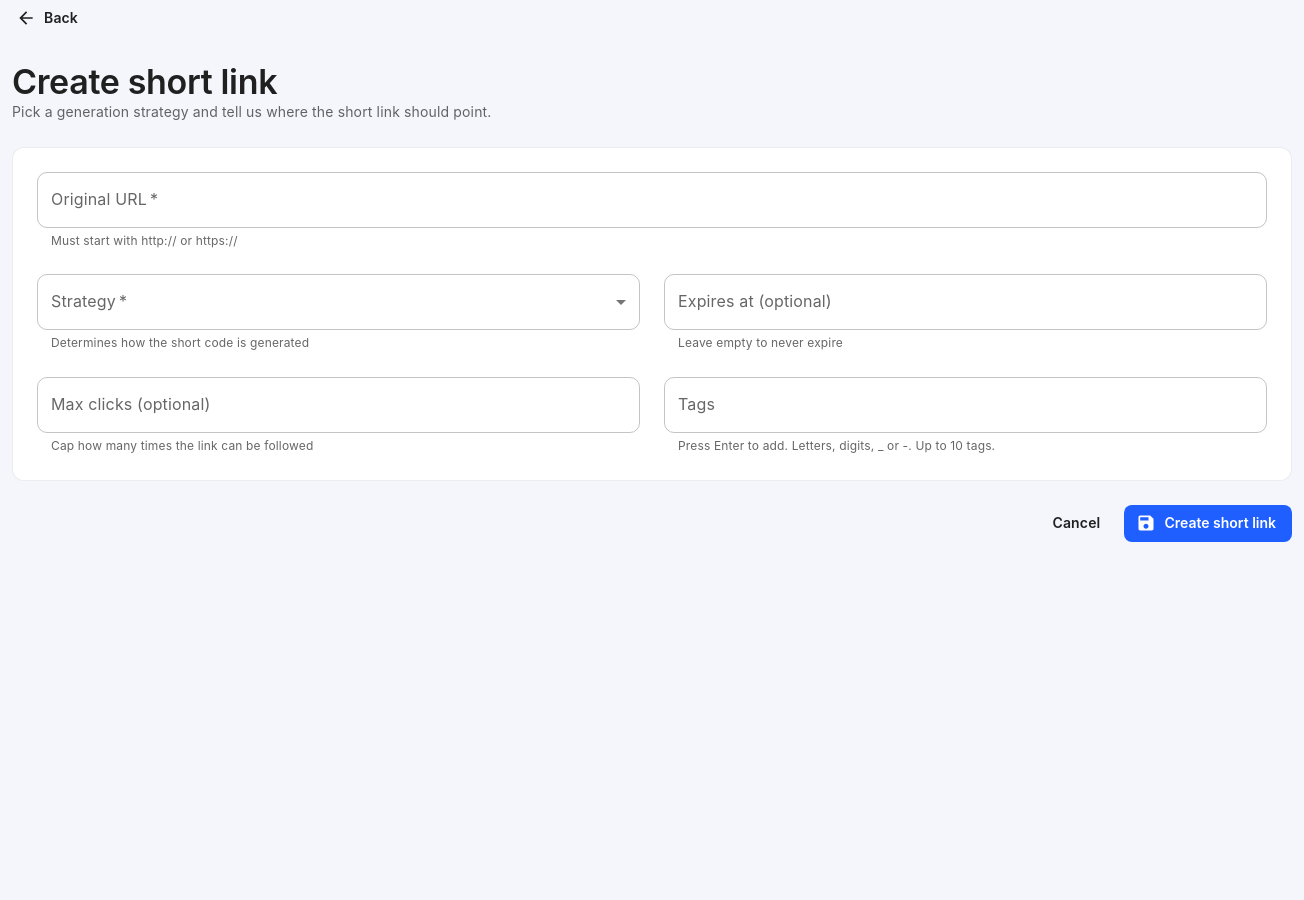
Scenario: <ShortLinkFormPage> — create flow › shows the alias field when CUSTOM_ALIAS strategy is selected
Expected: the field labelled "Original URL *" is shown, [37, 172, 1267, 228]
Click the 1st dropdown: (338, 302) [37, 274, 640, 330]
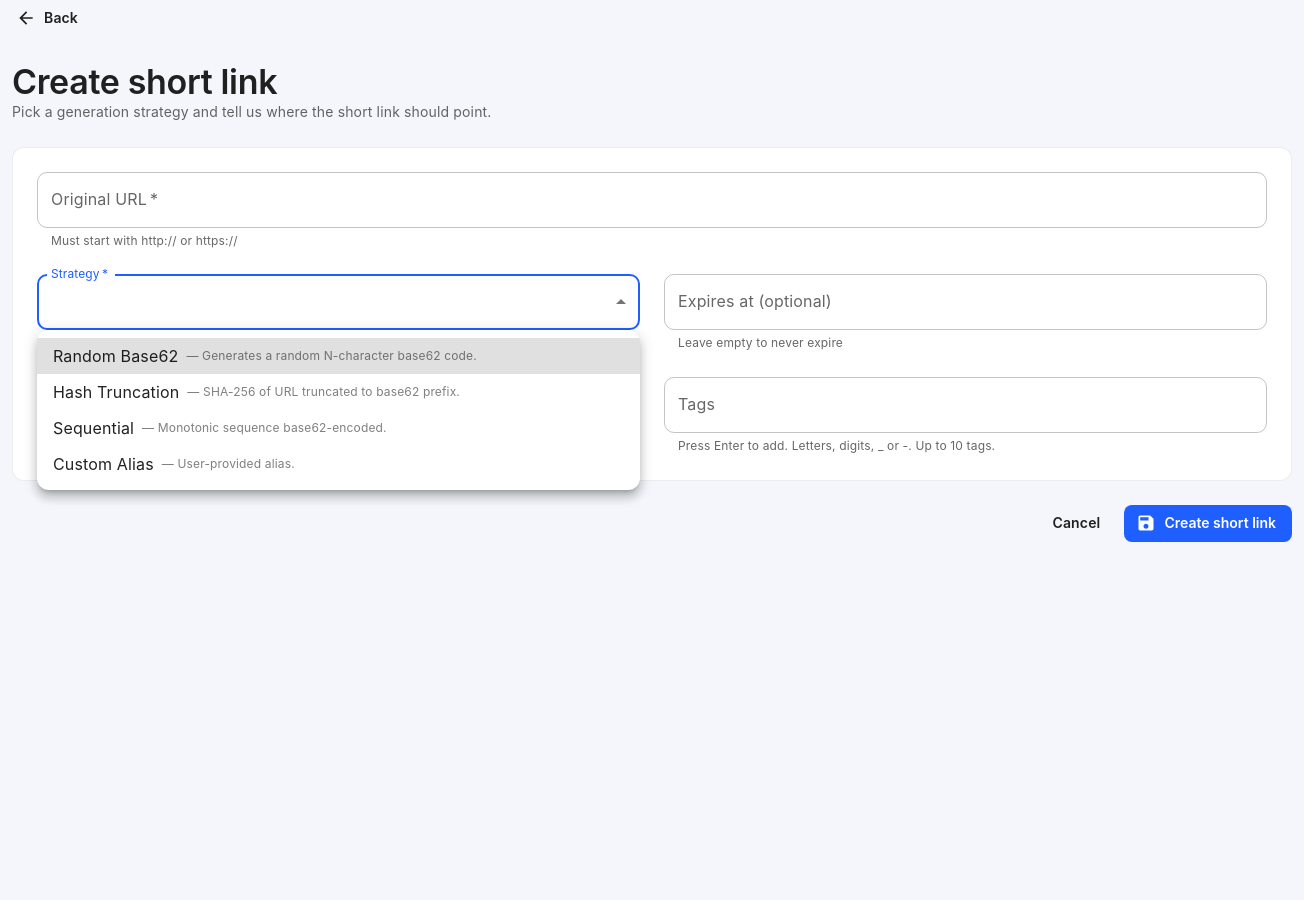
Click the option "Custom Alias — User-provided alias.": (174, 464) [53, 454, 295, 474]
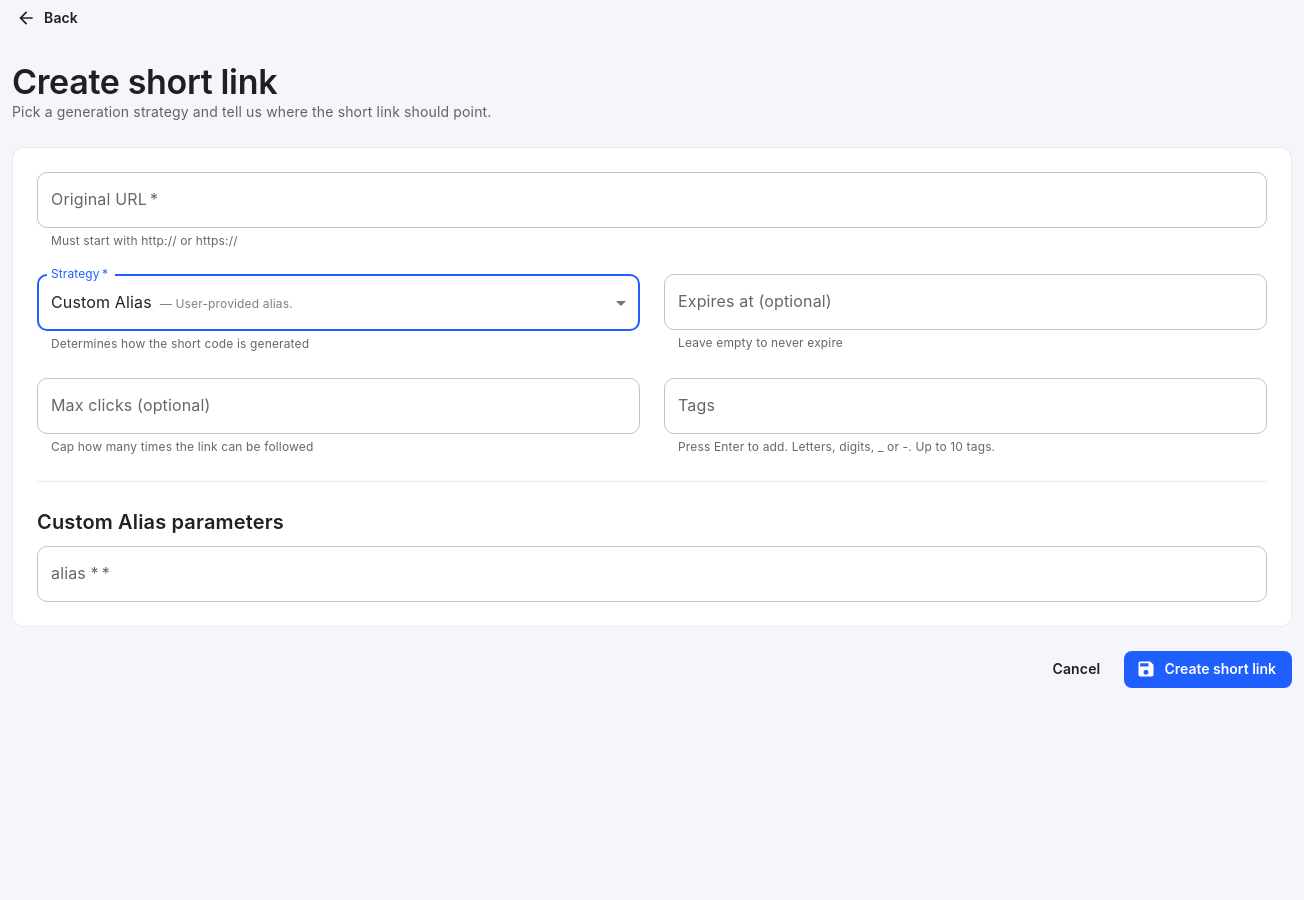
Result: the field labelled "alias * *" is shown at [37, 546, 1267, 602]
